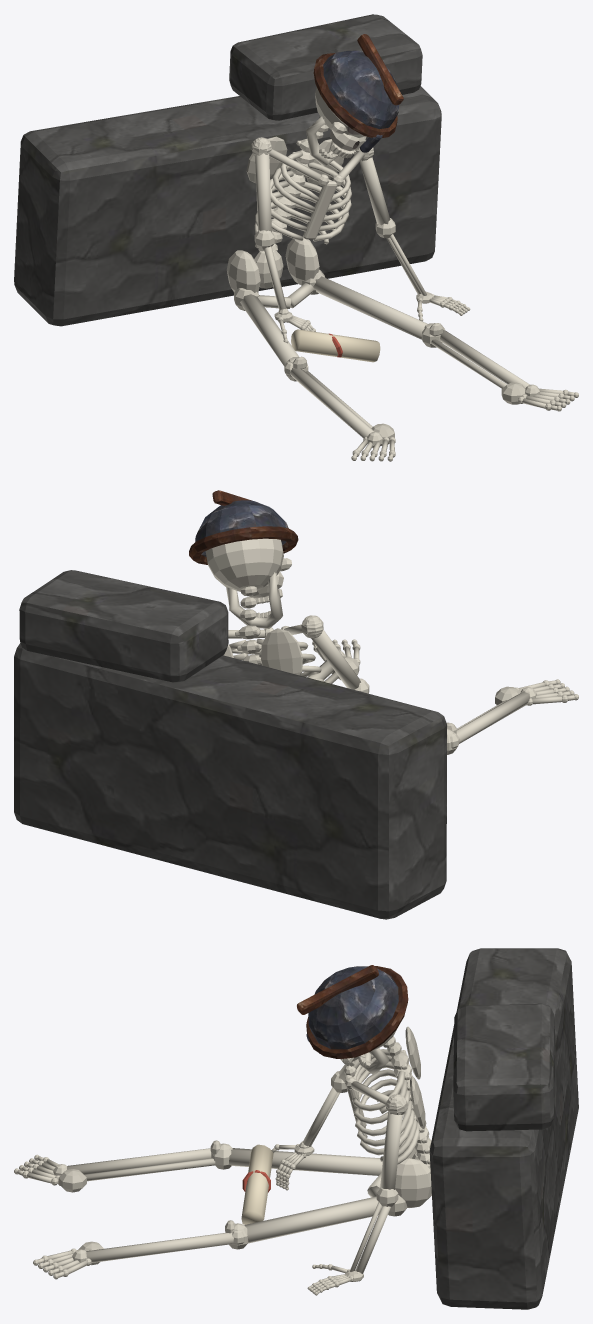
Rendered from skeleton_with_note.glb.
3 views of the same model, one above another, from view 1: azimuth 30°, elevation 25°; view 2: azimuth 150°, elevation 25°; view 3: azimuth 270°, elevation 25° (orthographic). The views are drawn at different scales.
Visible parts, largest first — view 1: model; view 2: model; view 3: model.
Boxes of the visible parts, <box> form: model: <box>14,14,578,461</box>; model: <box>14,490,578,919</box>; model: <box>14,948,578,1309</box>.
Size of the model in its own units: 0.9674 by 0.6769 by 1.19.
Materials: 10 (5 with a texture image).
